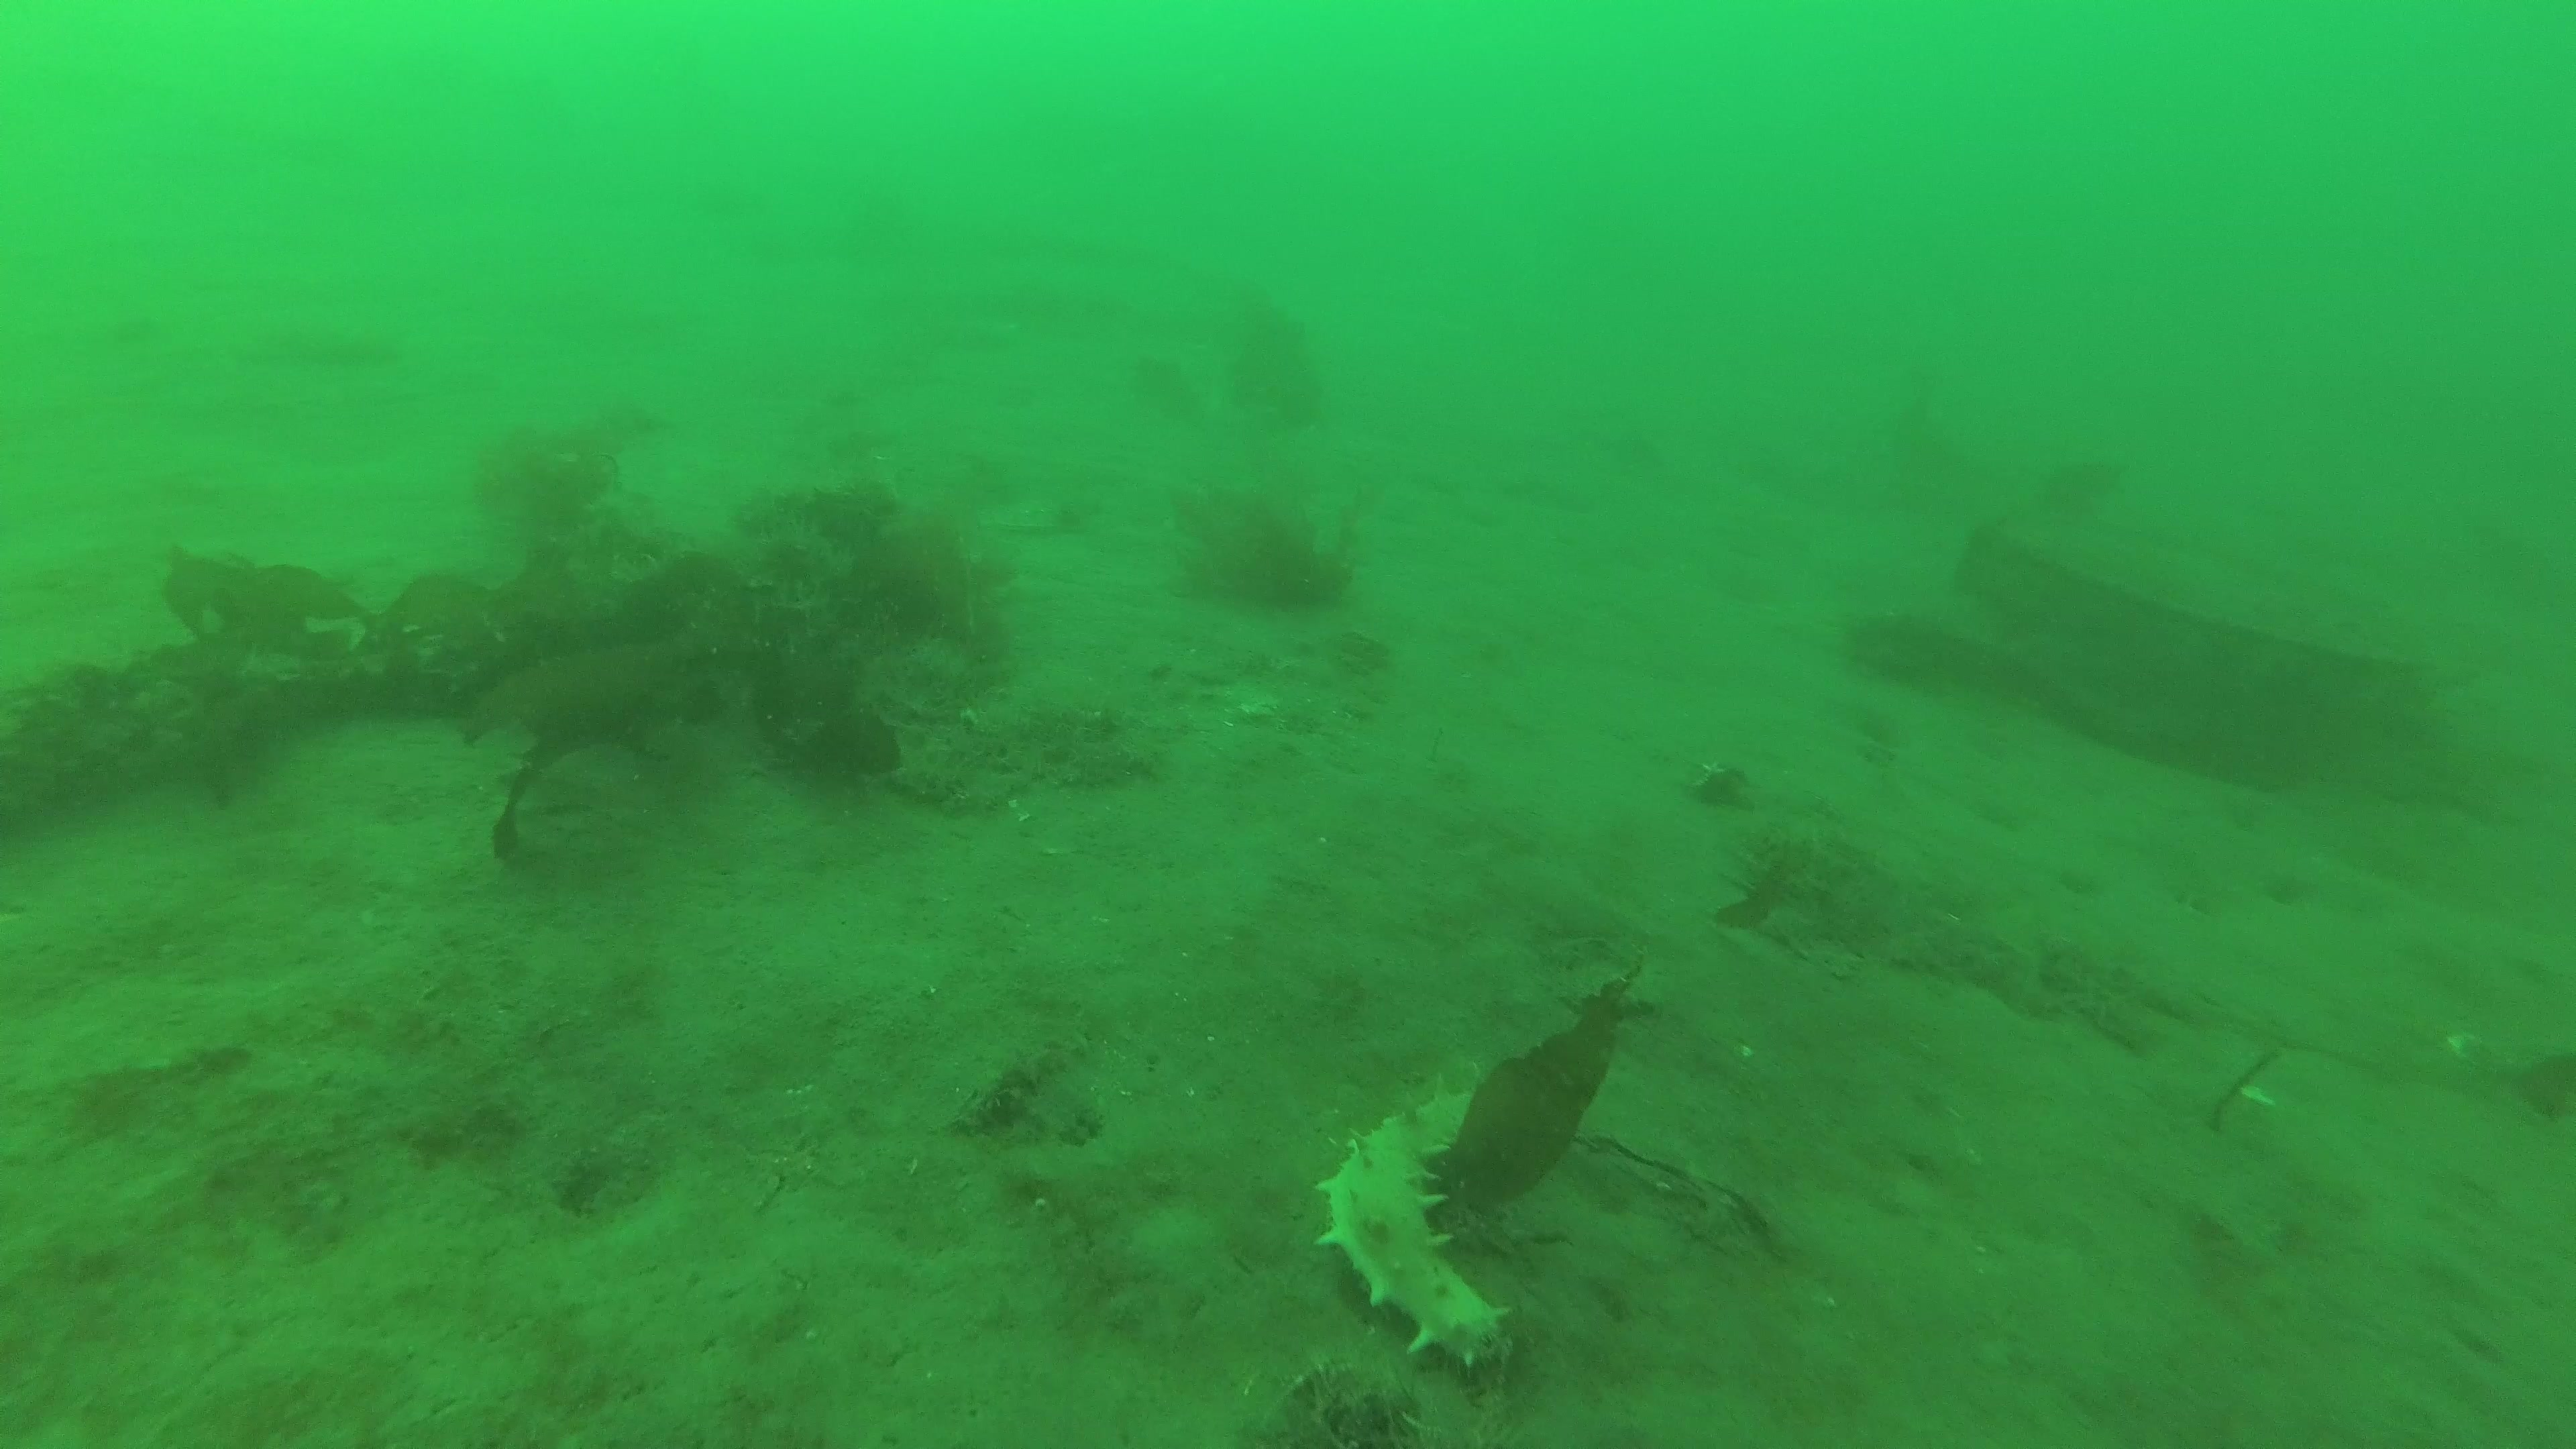holothurian: (1311, 1085, 1522, 1385)
